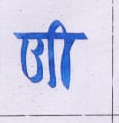i_matra: (52, 20, 78, 88)
